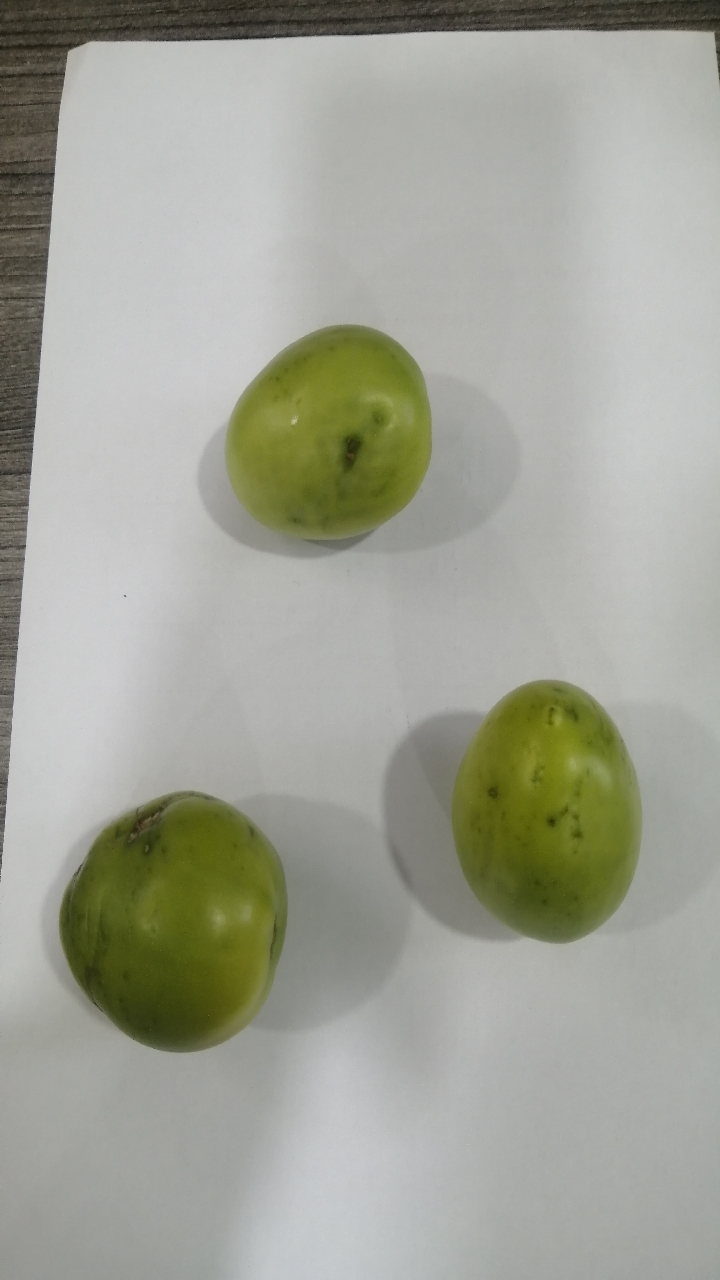tomateVerde: (40, 762, 320, 1074), (437, 665, 663, 975), (197, 306, 477, 546)
